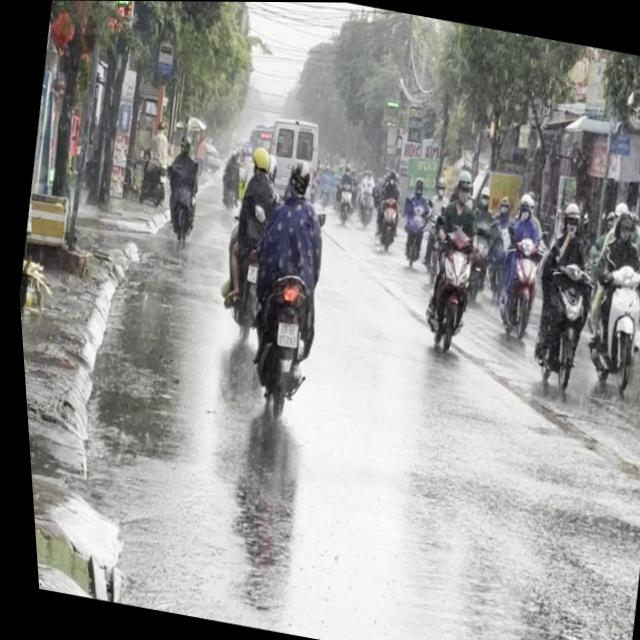helmet: (284, 155, 313, 197), (608, 202, 634, 240), (556, 198, 581, 234), (451, 166, 474, 200), (248, 144, 271, 174), (513, 188, 535, 219)
licenseplate: (222, 148, 350, 429), (512, 193, 609, 402), (200, 138, 291, 351), (405, 161, 494, 355), (566, 194, 640, 395), (483, 185, 558, 344)
nohelmet: (270, 320, 296, 347)
